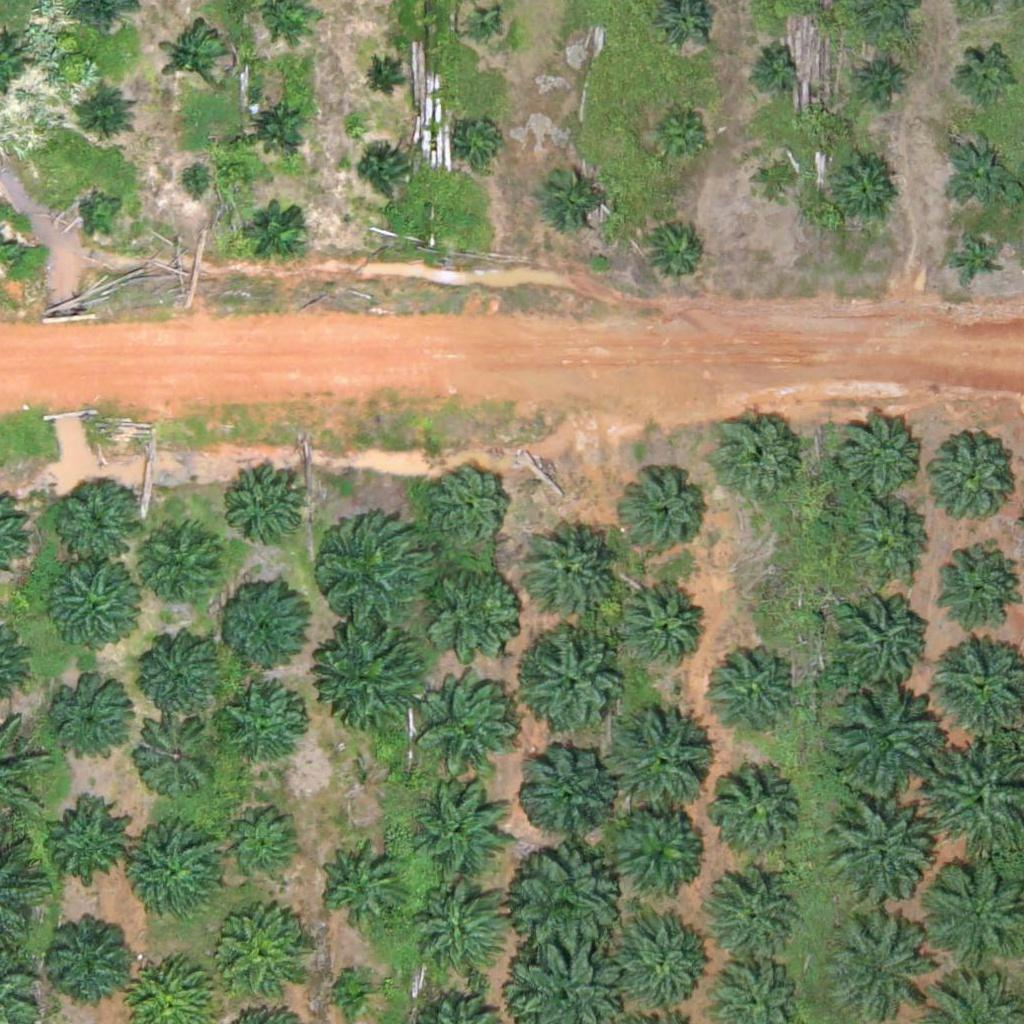Kelapa_Sawit: (313, 509, 438, 635), (826, 686, 938, 800), (601, 702, 713, 815), (518, 630, 630, 743), (511, 849, 623, 962), (921, 426, 1021, 527), (821, 918, 921, 1019), (697, 646, 797, 747), (702, 867, 802, 968), (612, 908, 712, 1009), (604, 800, 704, 901), (520, 522, 620, 623), (412, 885, 512, 986), (407, 779, 507, 880), (422, 676, 522, 777), (325, 627, 425, 728), (825, 805, 925, 905), (830, 589, 930, 689), (706, 761, 806, 861), (516, 742, 616, 842), (129, 827, 229, 927), (426, 554, 526, 654), (928, 542, 1016, 630), (710, 411, 798, 499), (613, 582, 701, 670), (47, 566, 135, 654), (52, 681, 140, 769), (40, 793, 128, 881), (44, 910, 132, 998), (216, 916, 304, 1004), (218, 582, 305, 671), (50, 474, 137, 562), (137, 628, 224, 716), (848, 497, 935, 585), (836, 414, 923, 502), (623, 471, 710, 559), (132, 709, 219, 797), (140, 520, 227, 608), (226, 463, 313, 551), (223, 690, 310, 778), (427, 467, 514, 555), (317, 840, 404, 928), (537, 161, 612, 237), (158, 21, 233, 97), (228, 806, 303, 881), (826, 151, 901, 226), (942, 133, 1017, 208), (248, 198, 311, 261), (75, 88, 138, 151), (247, 93, 310, 156), (647, 221, 710, 284), (647, 103, 710, 166), (958, 45, 1020, 108), (860, 54, 910, 105), (949, 234, 999, 285), (747, 40, 797, 91), (80, 186, 130, 237), (357, 148, 407, 198), (457, 115, 507, 165), (330, 965, 380, 1015), (751, 156, 801, 206), (466, 10, 504, 48), (175, 164, 213, 202), (361, 61, 398, 99)
